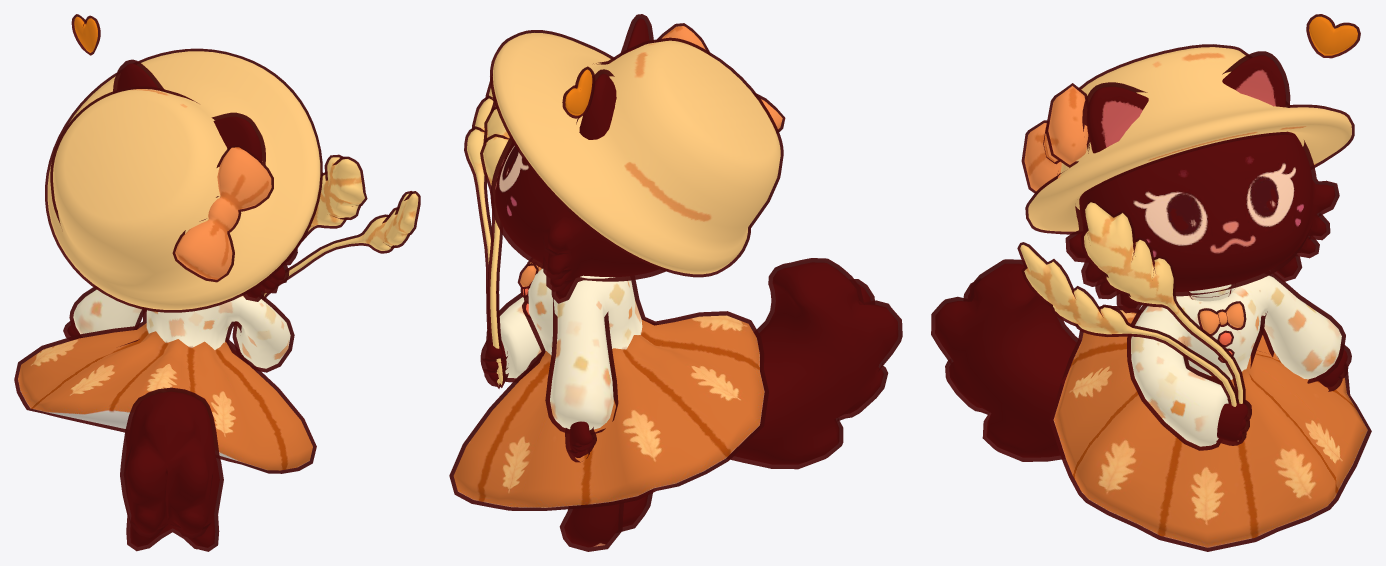
File: cute-cat.glb
The picture shows the model from 3 angles, left to right: view 1: azimuth 30°, elevation 25°; view 2: azimuth 150°, elevation 25°; view 3: azimuth 270°, elevation 25°; orthographic projection. The views are drawn at different scales.
Visible parts, largest first — view 1: HAT.001, DRESS.001, PAWS.001, HEART.001; view 2: DRESS.001, HAT.001, PAWS.001, HEART.001; view 3: DRESS.001, PAWS.001, HAT.001, HEART.001, Cube.003.
Part boxes in pixels (x1,y1,x2,y2): HAT.001: [45, 48, 322, 312]; DRESS.001: [14, 287, 316, 473]; PAWS.001: [63, 59, 297, 551]; HEART.001: [71, 14, 420, 297]; DRESS.001: [449, 268, 768, 510]; HAT.001: [490, 23, 785, 277]; PAWS.001: [480, 14, 902, 551]; HEART.001: [464, 66, 595, 388]; DRESS.001: [1049, 273, 1371, 551]; PAWS.001: [931, 51, 1351, 461]; HAT.001: [1021, 44, 1354, 234]; HEART.001: [1017, 14, 1360, 441]; Cube.003: [1197, 301, 1246, 362].
Size of the model in its own units: 0.8113 by 1.09 by 0.8684.
2 materials, 2 textured.
